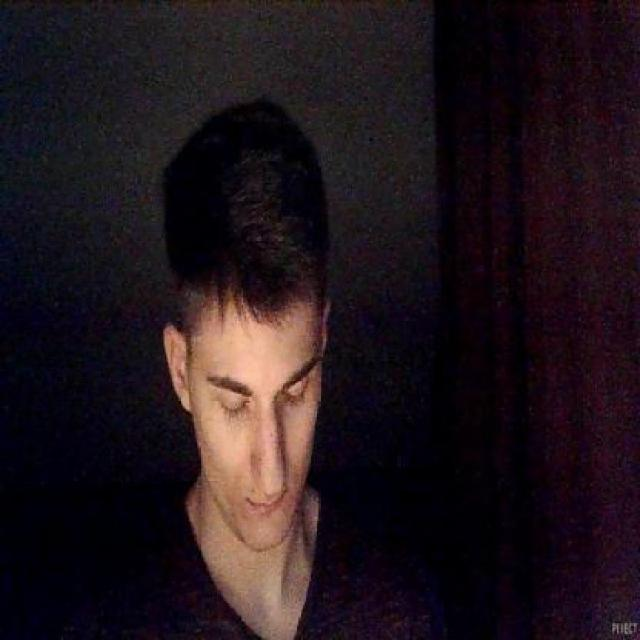drowsy: (220, 396, 248, 426), (286, 379, 309, 410)
